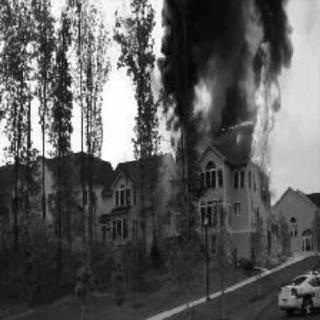Fire: (245, 40, 281, 174)
